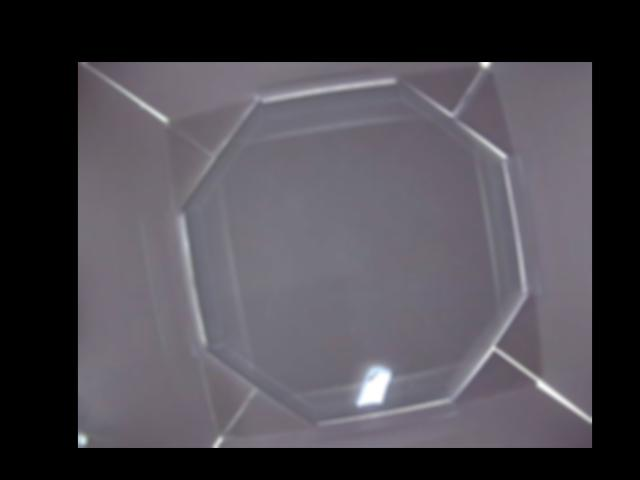China: (358, 361, 393, 409)
